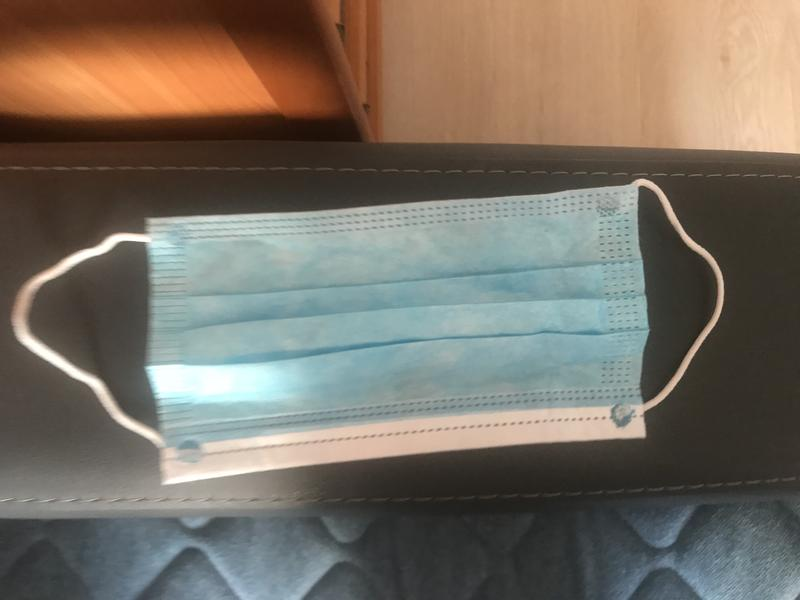medical_mask: (9, 177, 725, 482)
